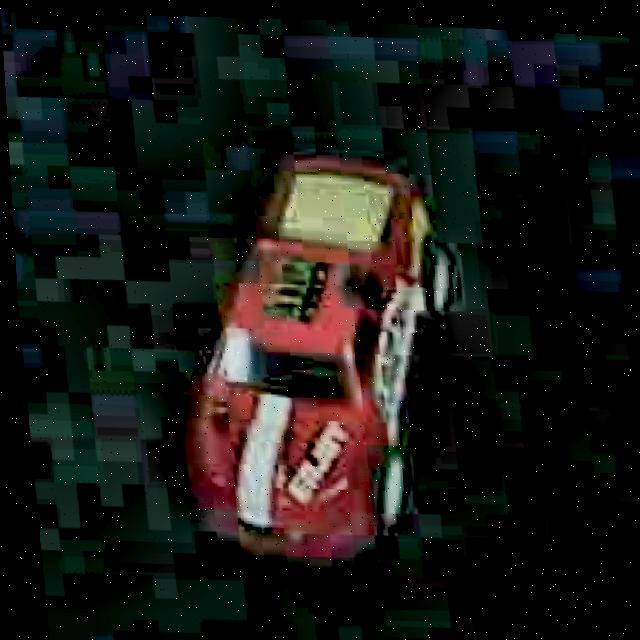car: (136, 133, 493, 586)
